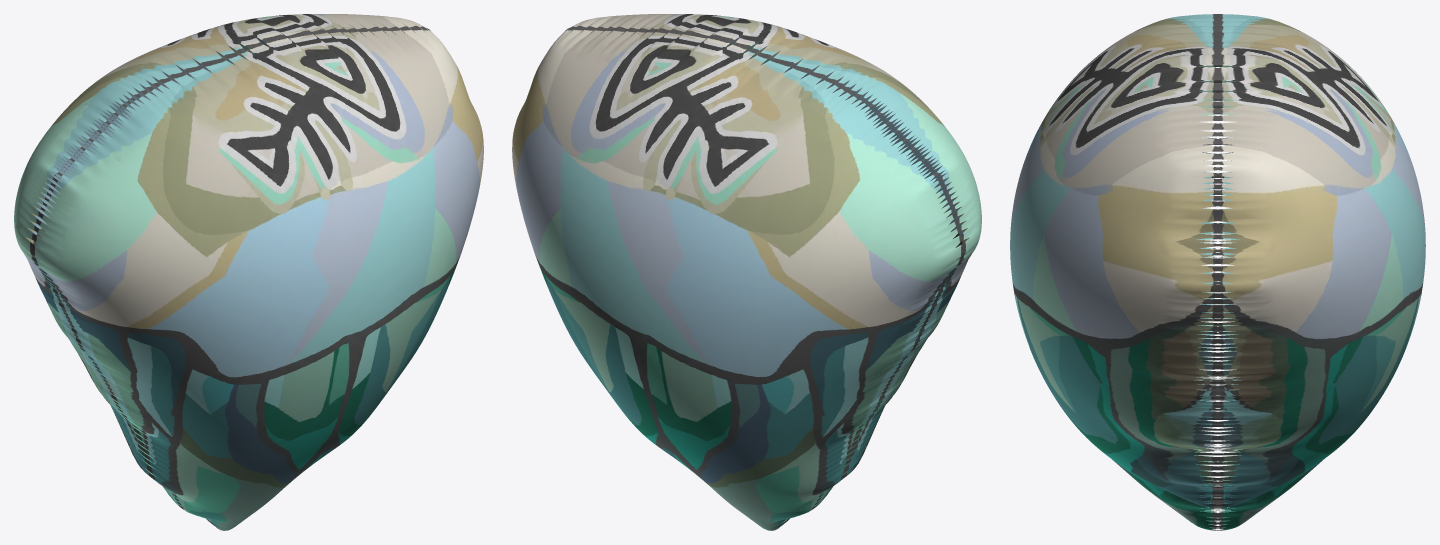
The model's file is fossil_ledge.glb.
3 views of the same model, side by side, from view 1: azimuth 30°, elevation 25°; view 2: azimuth 150°, elevation 25°; view 3: azimuth 270°, elevation 25° (orthographic). The views are drawn at different scales.
Parts seen in each view (by area): view 1: fossil_ledge; view 2: fossil_ledge; view 3: fossil_ledge.
Part boxes in pixels (x1=…): fossil_ledge: x1=14, y1=14, x2=483, y2=530; fossil_ledge: x1=512, y1=14, x2=981, y2=530; fossil_ledge: x1=1010, y1=14, x2=1425, y2=530.
Size of the model in its own units: 0.9884 by 1.04 by 0.7833.
Materials: 1 (1 with a texture image).
